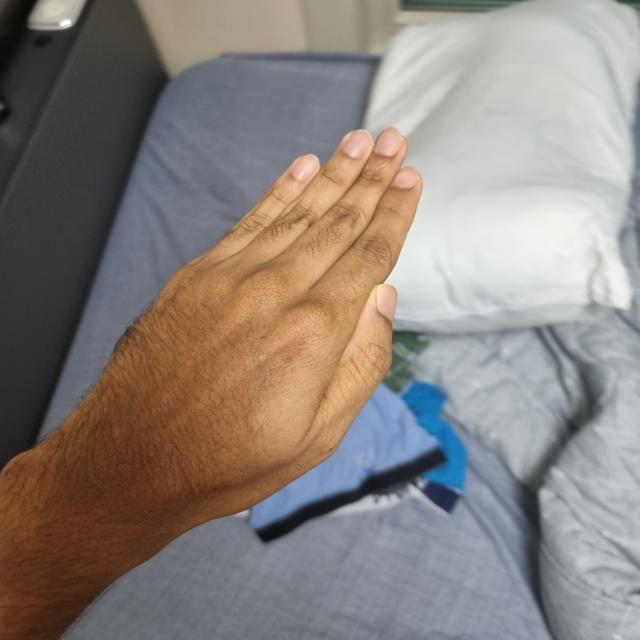Paper: (63, 140, 421, 528)
